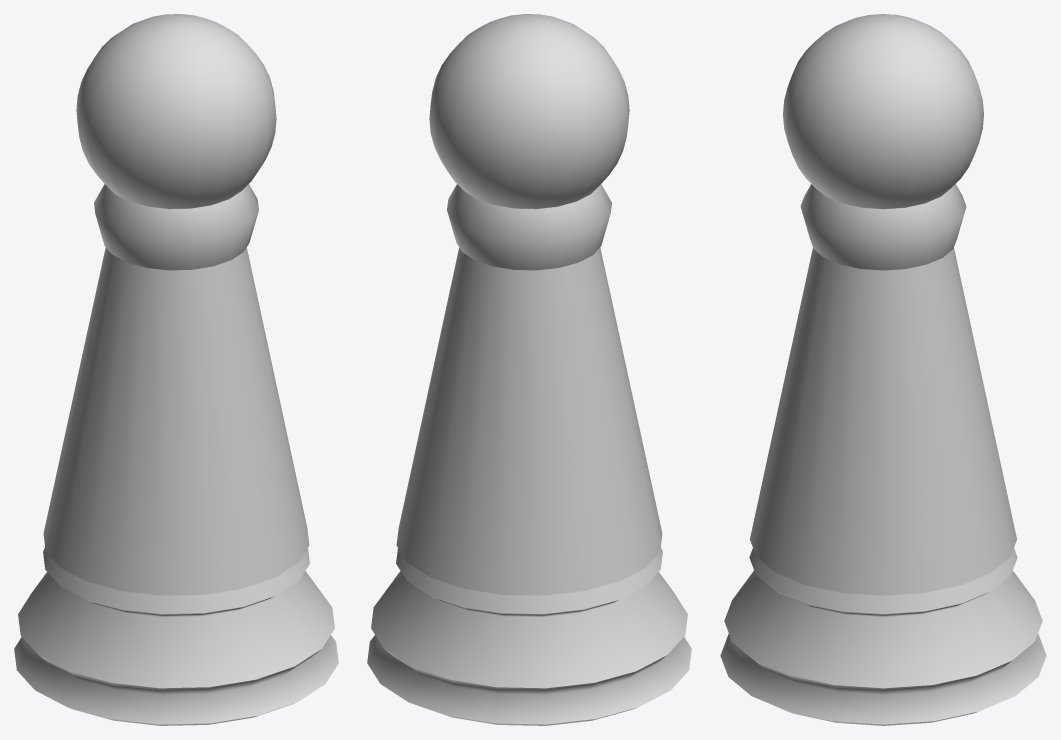
File: White_Pawn.glb
3 views of the same model, side by side, from view 1: azimuth 30°, elevation 25°; view 2: azimuth 150°, elevation 25°; view 3: azimuth 270°, elevation 25° (orthographic).
Parts seen in each view (by area): view 1: whitePawn; view 2: whitePawn; view 3: whitePawn.
Part boxes in pixels (x1,y1,x2,y2): whitePawn: (14,14,338,725); whitePawn: (367,14,691,725); whitePawn: (720,14,1046,725).
Bounding box in the file's own units: 2.12 × 4.57 × 2.12.
1 material, 1 textured.
